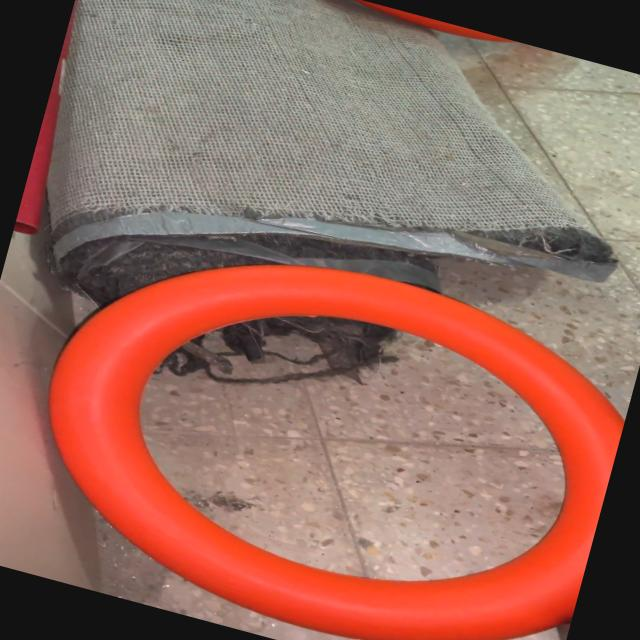note: (1, 197, 640, 640)
